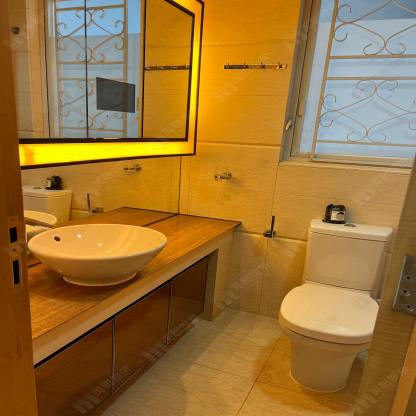Toilet: (273, 218, 395, 392)
Toilet Sink: (28, 222, 167, 286)
